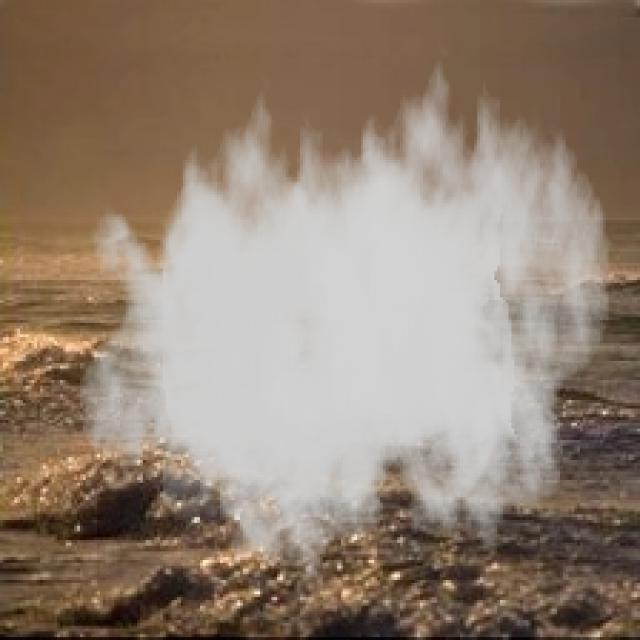Smoke: (77, 37, 612, 594)
